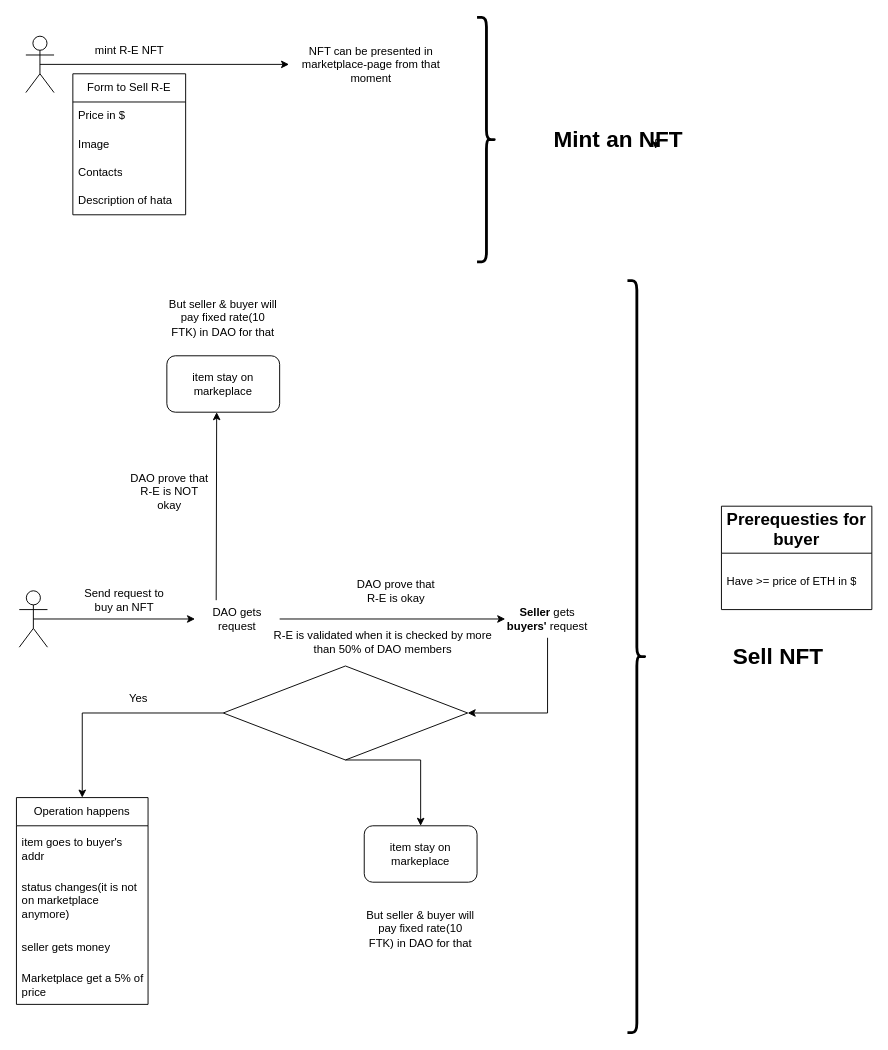
This 888x1050 diagram has some shape labels left out. The shapes that lost their labels are listed below. From the top down, each one's box as (x1, y1, x2, y2) in pixels, then its label:
(25, 35, 54, 93): Seller
(18, 590, 47, 647): Buyer
(222, 665, 468, 760): is NFT can be sold(is it proved by seller?)
